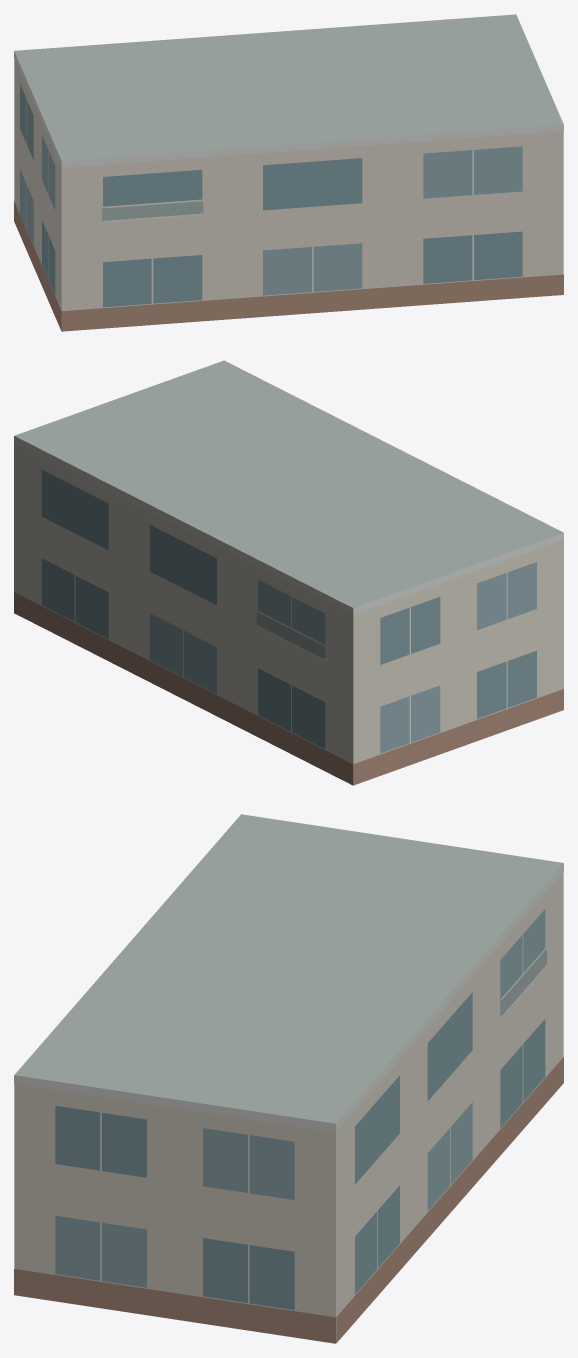
File: survey-upis-32657629.glb
3 renders of one model, top to bottom at view 1: azimuth 30°, elevation 25°; view 2: azimuth 150°, elevation 25°; view 3: azimuth 270°, elevation 25°, orthographic. The views are drawn at different scales.
Parts seen in each view (by area): view 1: survey-upis-32657629.tmp; view 2: survey-upis-32657629.tmp; view 3: survey-upis-32657629.tmp.
Boxes of the visible parts, x1,y1,x2,y2 form: survey-upis-32657629.tmp: (14, 14, 563, 331); survey-upis-32657629.tmp: (14, 360, 563, 785); survey-upis-32657629.tmp: (14, 814, 563, 1343).
Size of the model in its own units: 18.42 by 6.1 by 13.82.
